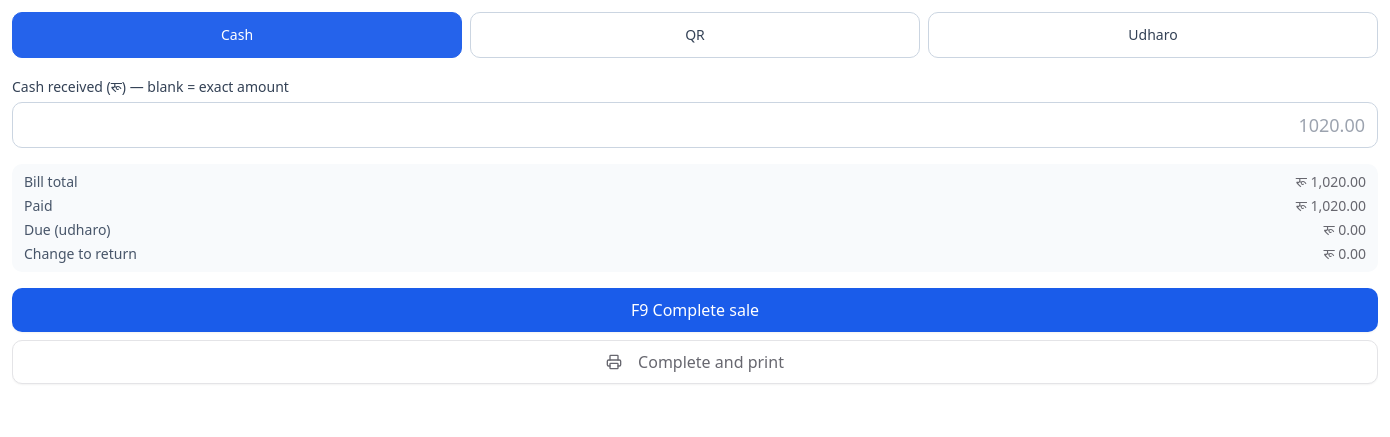
PaymentPanel › refuses to complete while a discount is wrong
Click the button "F9 Complete sale". click: (695,310)
box: [12, 288, 1378, 332]
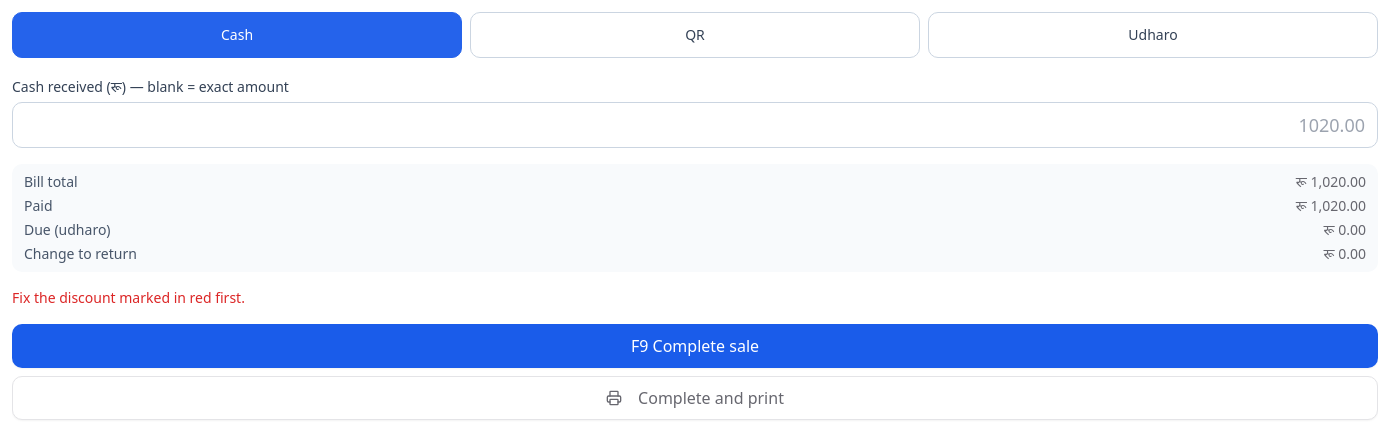
Expected: the message shows "Fix the discount", [12, 288, 245, 307]
